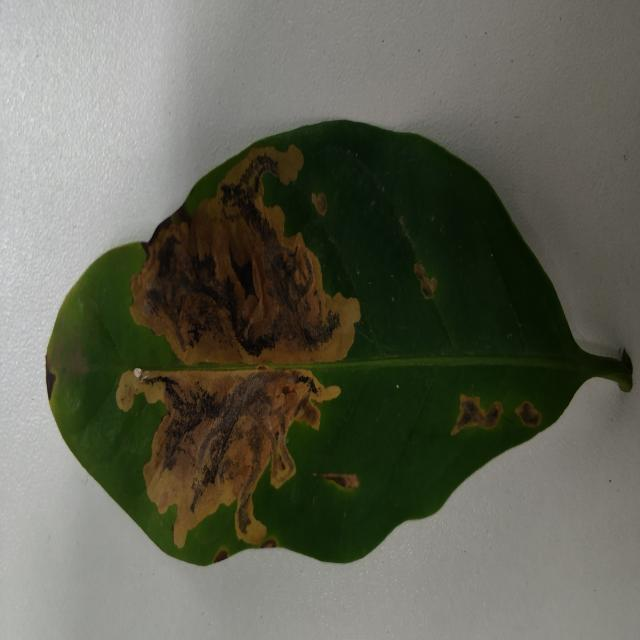KaratDaunKopi: (130, 145, 360, 365), (116, 369, 340, 547), (451, 394, 503, 435), (414, 263, 437, 299), (515, 401, 541, 426), (322, 473, 360, 488), (46, 355, 56, 400), (312, 193, 327, 216), (214, 549, 228, 563), (261, 538, 277, 548)
